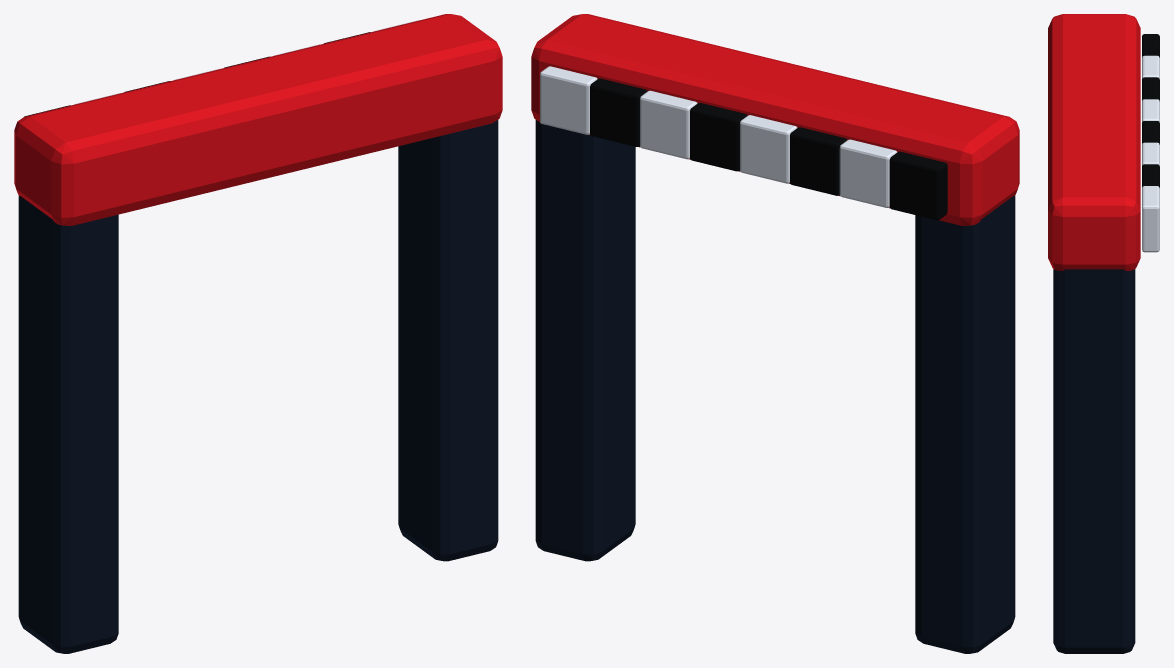
The model's file is finish_gate.obj.
3 views of the same model, side by side, from view 1: azimuth 30°, elevation 25°; view 2: azimuth 150°, elevation 25°; view 3: azimuth 270°, elevation 25° (orthographic). The views are drawn at different scales.
Parts seen in each view (by area): view 1: finish_header_M_red, finish_post_r_M_navy, finish_post_l_M_navy; view 2: finish_post_r_M_navy, finish_post_l_M_navy, finish_header_M_red, finish_tile_7_M_black, finish_tile_6_M_white, finish_tile_0_M_white, finish_tile_4_M_white, finish_tile_5_M_black, finish_tile_3_M_black, finish_tile_1_M_black, finish_tile_2_M_white; view 3: finish_post_l_M_navy, finish_header_M_red, finish_tile_0_M_white, finish_tile_5_M_black, finish_tile_2_M_white, finish_tile_6_M_white, finish_tile_1_M_black, finish_tile_4_M_white, finish_tile_3_M_black, finish_tile_7_M_black.
Part boxes in pixels (box(x1,y1,x2,y2)): finish_header_M_red: box(14, 14, 502, 225); finish_post_r_M_navy: box(18, 196, 118, 653); finish_post_l_M_navy: box(398, 120, 498, 561); finish_post_r_M_navy: box(915, 196, 1015, 653); finish_post_l_M_navy: box(535, 120, 635, 561); finish_header_M_red: box(531, 14, 1019, 225); finish_tile_7_M_black: box(889, 151, 947, 220); finish_tile_6_M_white: box(839, 139, 897, 207); finish_tile_0_M_white: box(540, 66, 597, 134); finish_tile_4_M_white: box(740, 115, 797, 183); finish_tile_5_M_black: box(790, 127, 847, 195); finish_tile_3_M_black: box(690, 103, 747, 171); finish_tile_1_M_black: box(590, 78, 647, 146); finish_tile_2_M_white: box(640, 90, 697, 159); finish_post_l_M_navy: box(1053, 269, 1135, 653); finish_header_M_red: box(1048, 14, 1140, 270); finish_tile_0_M_white: box(1142, 186, 1159, 252); finish_tile_5_M_black: box(1142, 77, 1159, 101); finish_tile_2_M_white: box(1142, 142, 1159, 166); finish_tile_6_M_white: box(1142, 55, 1159, 79); finish_tile_1_M_black: box(1142, 164, 1159, 187); finish_tile_4_M_white: box(1142, 99, 1159, 122); finish_tile_3_M_black: box(1142, 121, 1159, 144); finish_tile_7_M_black: box(1142, 34, 1159, 57).
Size of the model in its own units: 0.9 by 0.98 by 0.2175.
